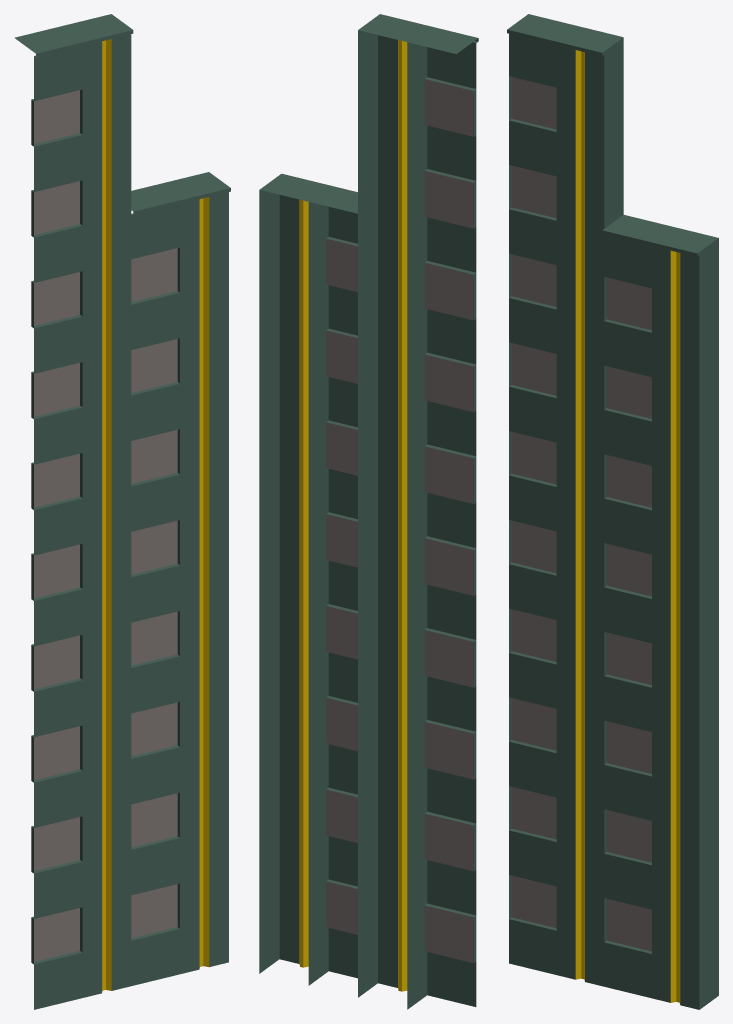
3 renders of one model, left to right at view 1: azimuth 30°, elevation 25°; view 2: azimuth 150°, elevation 25°; view 3: azimuth 330°, elevation 25°, orthographic. The views are drawn at different scales.
Visible parts, largest first — view 1: Column.032; view 2: Column.032; view 3: Column.032.
Boxes of the visible parts, bbox=[...] form: Column.032: bbox=[14, 14, 230, 1009]; Column.032: bbox=[259, 14, 478, 1009]; Column.032: bbox=[507, 14, 718, 1009].
Bounding box in the file's own units: 1114 × 5230 × 217.
